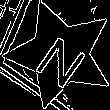N_NE: (28, 22, 92, 87)
